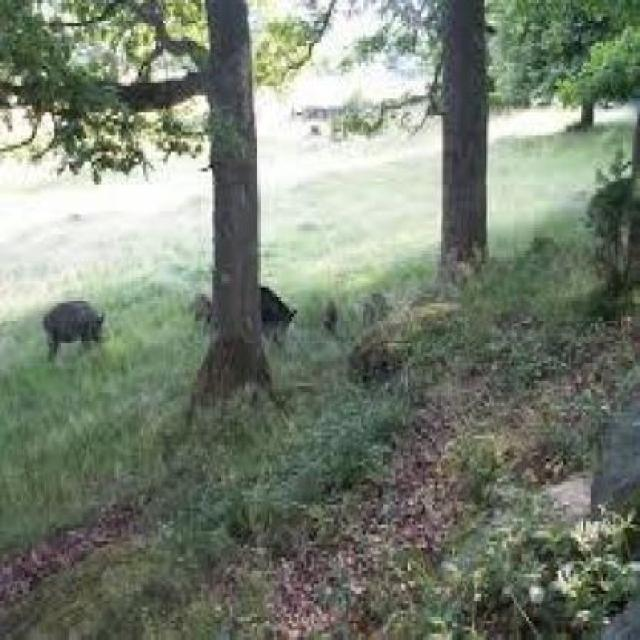wildboar: (38, 295, 108, 362), (232, 285, 302, 350)
